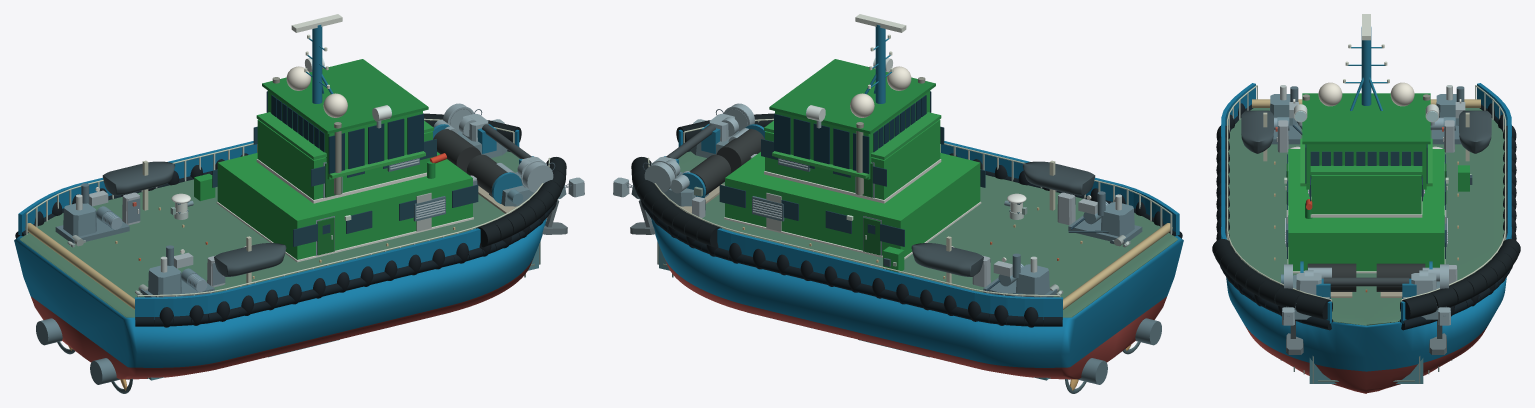
File: sparky.lod1.glb
The picture shows the model from 3 angles, left to right: view 1: azimuth 30°, elevation 25°; view 2: azimuth 150°, elevation 25°; view 3: azimuth 270°, elevation 25°; orthographic projection. The views are drawn at different scales.
Visible parts, largest first — view 1: sparky.structure.hull.outer-hull-shell.1, sparky.structure.decks.main-strength-deck.1, sparky.accommodation.superstructure.deck-1-enclosure.1, sparky.navigation.bridge.wheelhouse-roof-visor.1, sparky.structure.hull.antifouling-underwater-shell.1, sparky.accommodation.superstructure.deck-2-enclosure.1, sparky.safety.survival-craft.inflatable-rescue-boat-starboar, sparky.safety.survival-craft.inflatable-rescue-boat-port-1.1, sparky.cargo.port-tow-winch-hydraulic-station.port-tow-winch (×2), sparky.navigation.bridge.wheelhouse.1, sparky.cargo.working-deck.stern-roller.1, sparky.cargo.working-deck.port-mission-winch-drum.1 (+19 smaller); view 2: sparky.structure.hull.outer-hull-shell.1, sparky.structure.decks.main-strength-deck.1, sparky.accommodation.superstructure.deck-1-enclosure.1, sparky.navigation.bridge.wheelhouse-roof-visor.1, sparky.structure.hull.antifouling-underwater-shell.1, sparky.accommodation.superstructure.deck-2-enclosure.1, sparky.safety.survival-craft.inflatable-rescue-boat-port-1.1, sparky.safety.survival-craft.inflatable-rescue-boat-starboar, sparky.cargo.starboard-tow-winch-hydraulic-station.starboard (×2), sparky.navigation.bridge.wheelhouse.1, sparky.cargo.working-deck.stern-roller.1, sparky.cargo.working-deck.starboard-mission-winch-drum.1 (+18 smaller); view 3: sparky.structure.decks.main-strength-deck.1, sparky.accommodation.superstructure.deck-1-enclosure.1, sparky.structure.hull.outer-hull-shell.1, sparky.navigation.bridge.wheelhouse-roof-visor.1, sparky.accommodation.superstructure.deck-2-enclosure.1, sparky.structure.hull.antifouling-underwater-shell.1, sparky.navigation.bridge.wheelhouse.1, sparky.safety.survival-craft.inflatable-rescue-boat-port-1.1, sparky.safety.survival-craft.inflatable-rescue-boat-starboar, sparky.accommodation.superstructure.superstructure-weather-d, sparky.cargo.working-deck.port-mission-winch-drum.1, sparky.cargo.working-deck.towing-fairlead-crossbar.1 (+29 smaller).
Boxes of the visible parts, left/top/right/bottom form: sparky.structure.hull.outer-hull-shell.1: left=14, top=218, right=546, bottom=367; sparky.structure.decks.main-strength-deck.1: left=20, top=151, right=519, bottom=317; sparky.accommodation.superstructure.deck-1-enclosure.1: left=217, top=152, right=472, bottom=259; sparky.navigation.bridge.wheelhouse-roof-visor.1: left=262, top=59, right=428, bottom=133; sparky.structure.hull.antifouling-underwater-shell.1: left=31, top=258, right=533, bottom=379; sparky.accommodation.superstructure.deck-2-enclosure.1: left=257, top=119, right=432, bottom=199; sparky.safety.survival-craft.inflatable-rescue-boat-starboar: left=214, top=243, right=286, bottom=276; sparky.safety.survival-craft.inflatable-rescue-boat-port-1.1: left=102, top=161, right=175, bottom=195; sparky.cargo.port-tow-winch-hydraulic-station.port-tow-winch (×2): left=55, top=203, right=129, bottom=243; sparky.navigation.bridge.wheelhouse.1: left=267, top=90, right=422, bottom=179; sparky.cargo.working-deck.stern-roller.1: left=25, top=223, right=134, bottom=309; sparky.cargo.working-deck.port-mission-winch-drum.1: left=433, top=129, right=481, bottom=173; sparky.structure.hull.outer-hull-shell.1: left=651, top=218, right=1183, bottom=367; sparky.structure.decks.main-strength-deck.1: left=678, top=151, right=1177, bottom=317; sparky.accommodation.superstructure.deck-1-enclosure.1: left=725, top=152, right=980, bottom=256; sparky.navigation.bridge.wheelhouse-roof-visor.1: left=769, top=59, right=935, bottom=133; sparky.structure.hull.antifouling-underwater-shell.1: left=664, top=258, right=1166, bottom=379; sparky.accommodation.superstructure.deck-2-enclosure.1: left=765, top=119, right=940, bottom=199; sparky.safety.survival-craft.inflatable-rescue-boat-port-1.1: left=911, top=243, right=983, bottom=276; sparky.safety.survival-craft.inflatable-rescue-boat-starboar: left=1022, top=161, right=1095, bottom=195; sparky.cargo.starboard-tow-winch-hydraulic-station.starboard (×2): left=1068, top=202, right=1142, bottom=244; sparky.navigation.bridge.wheelhouse.1: left=775, top=90, right=930, bottom=179; sparky.cargo.working-deck.stern-roller.1: left=1063, top=223, right=1172, bottom=309; sparky.cargo.working-deck.starboard-mission-winch-drum.1: left=716, top=129, right=764, bottom=173; sparky.structure.decks.main-strength-deck.1: left=1228, top=108, right=1504, bottom=325; sparky.accommodation.superstructure.deck-1-enclosure.1: left=1288, top=149, right=1444, bottom=271; sparky.structure.hull.outer-hull-shell.1: left=1226, top=277, right=1506, bottom=371; sparky.navigation.bridge.wheelhouse-roof-visor.1: left=1302, top=93, right=1430, bottom=144; sparky.accommodation.superstructure.deck-2-enclosure.1: left=1311, top=175, right=1421, bottom=214; sparky.structure.hull.antifouling-underwater-shell.1: left=1245, top=326, right=1487, bottom=393; sparky.navigation.bridge.wheelhouse.1: left=1306, top=144, right=1426, bottom=189; sparky.safety.survival-craft.inflatable-rescue-boat-port-1.1: left=1459, top=110, right=1491, bottom=153; sparky.safety.survival-craft.inflatable-rescue-boat-starboar: left=1241, top=110, right=1273, bottom=153; sparky.accommodation.superstructure.superstructure-weather-d: left=1310, top=165, right=1422, bottom=174; sparky.cargo.working-deck.port-mission-winch-drum.1: left=1376, top=263, right=1425, bottom=291; sparky.cargo.working-deck.towing-fairlead-crossbar.1: left=1323, top=277, right=1409, bottom=286.
Bounding box in the file's own units: 24.73 × 14.65 × 14.14.
